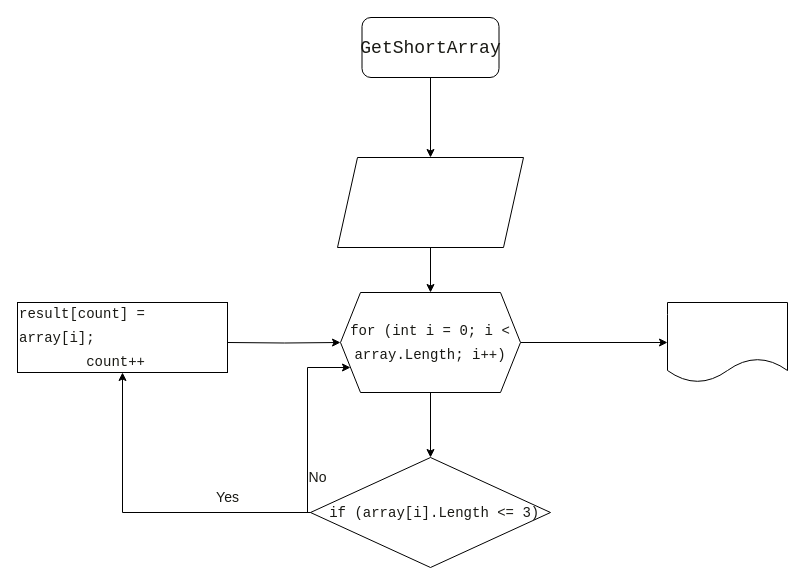
This 805x585 diagram has some shape labels left out. Each missing label, with the centre of its shape:
"return result;" goes at point (727, 342).
"string[] array var result = new string[array.Length]; var count = 0;" goes at point (430, 202).
